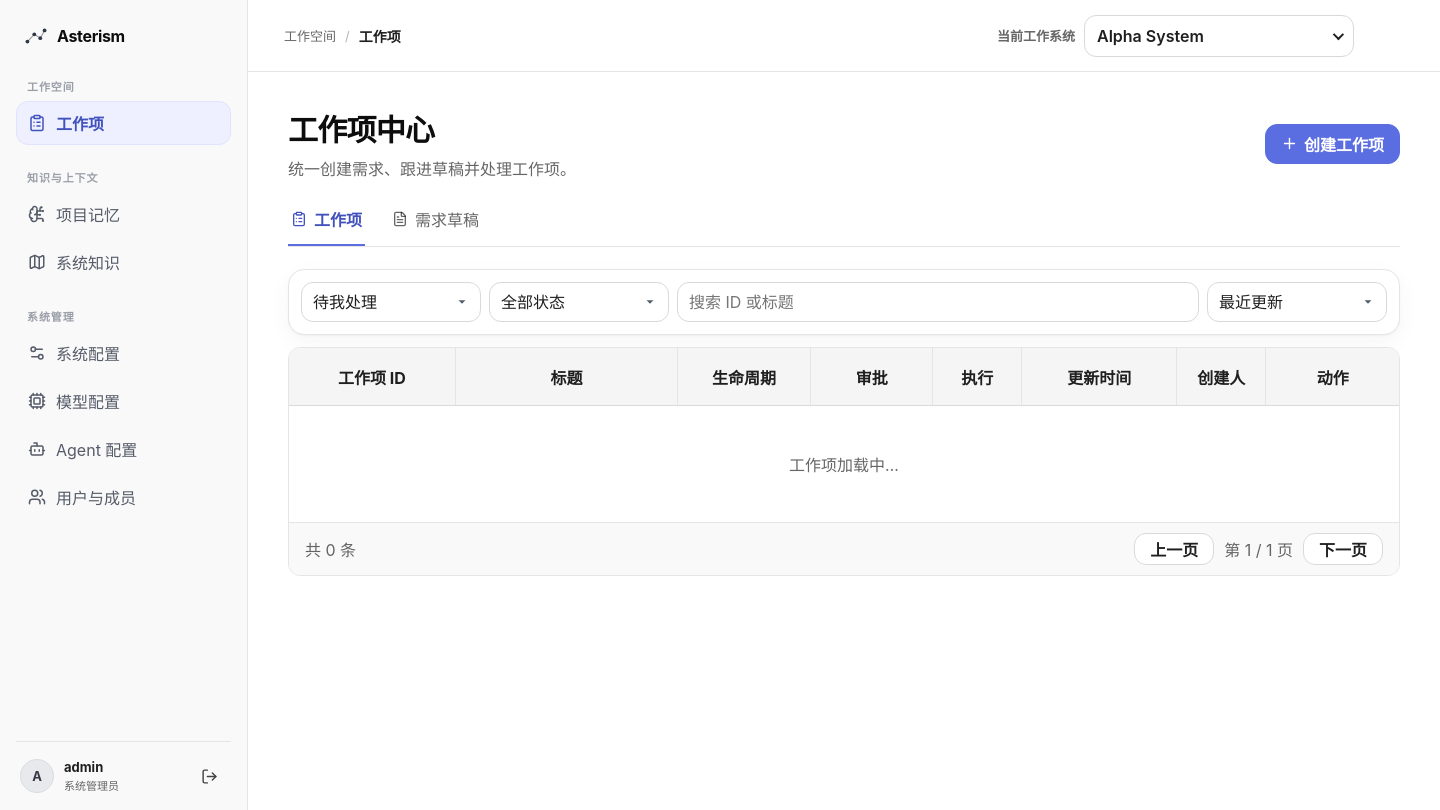
work item filters and second page survive detail return
Select "全部可见" in the dropdown named "范围" at (391, 302), box [301,282,481,322]
Select "已完成" in the dropdown named "状态" at (579, 302), box [489,282,669,322]
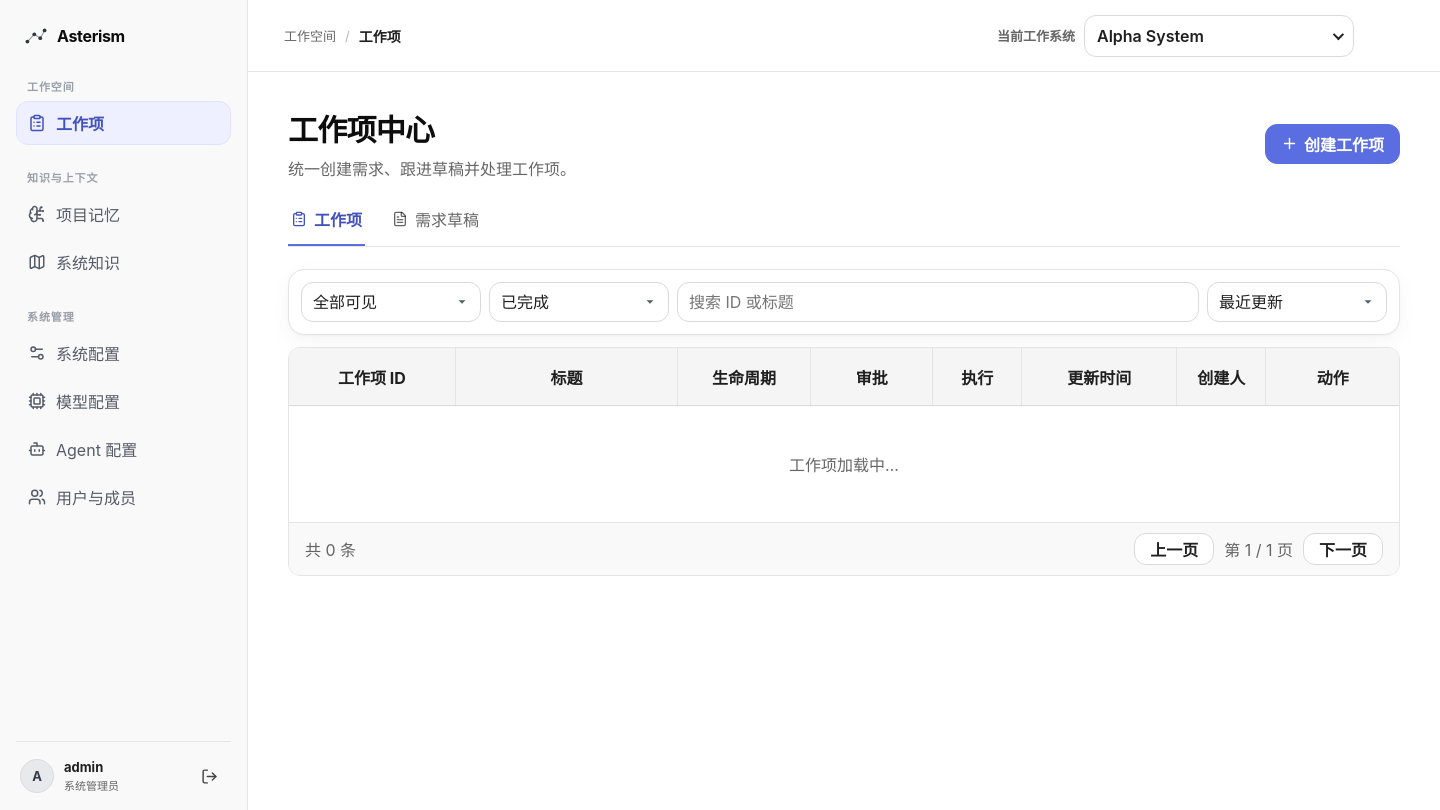
Type "登录" into the field named "搜索工作项" at (938, 302), box [677,282,1199,322]
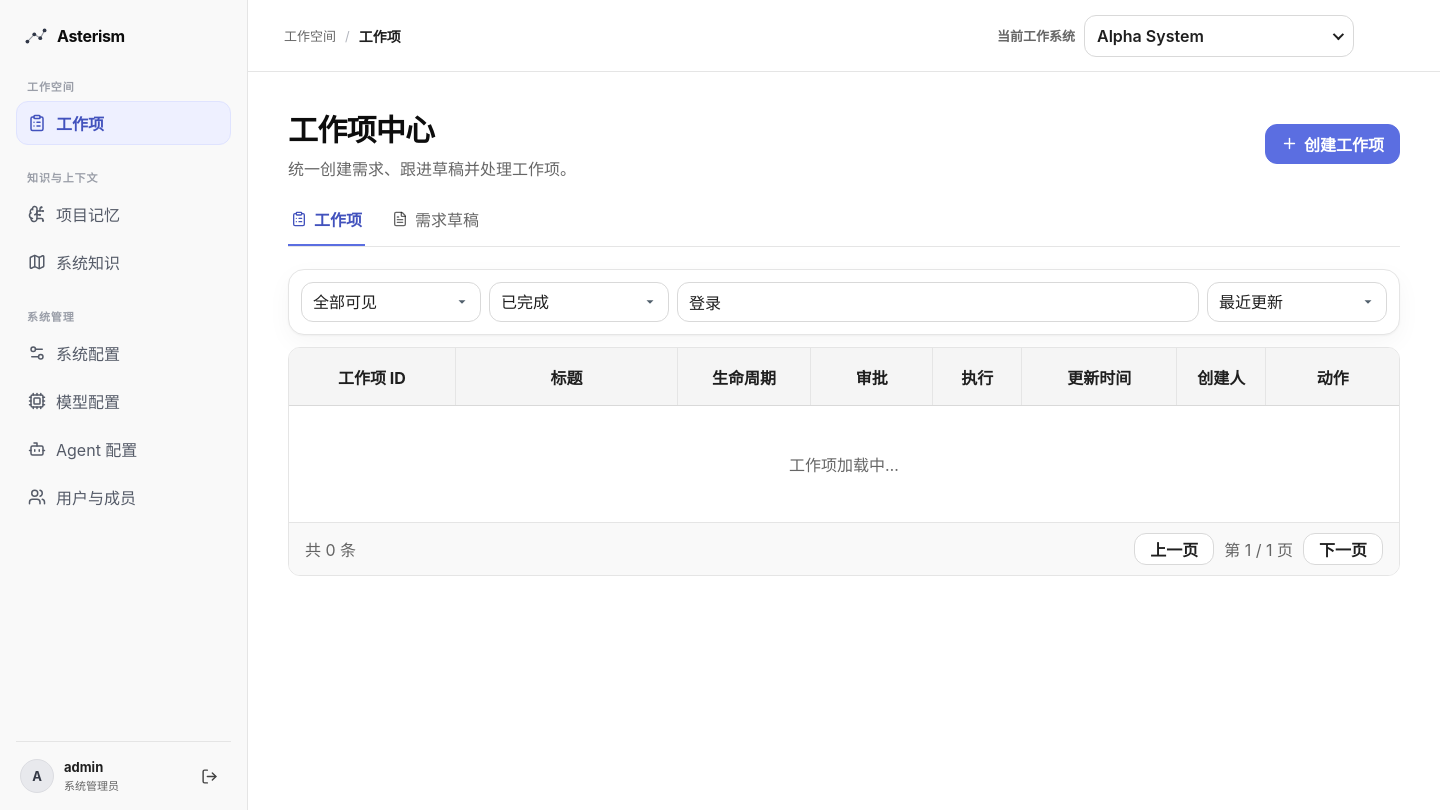
Select "最早创建" in the dropdown named "排序" at (1297, 302), box [1207,282,1387,322]
(page scrolled)
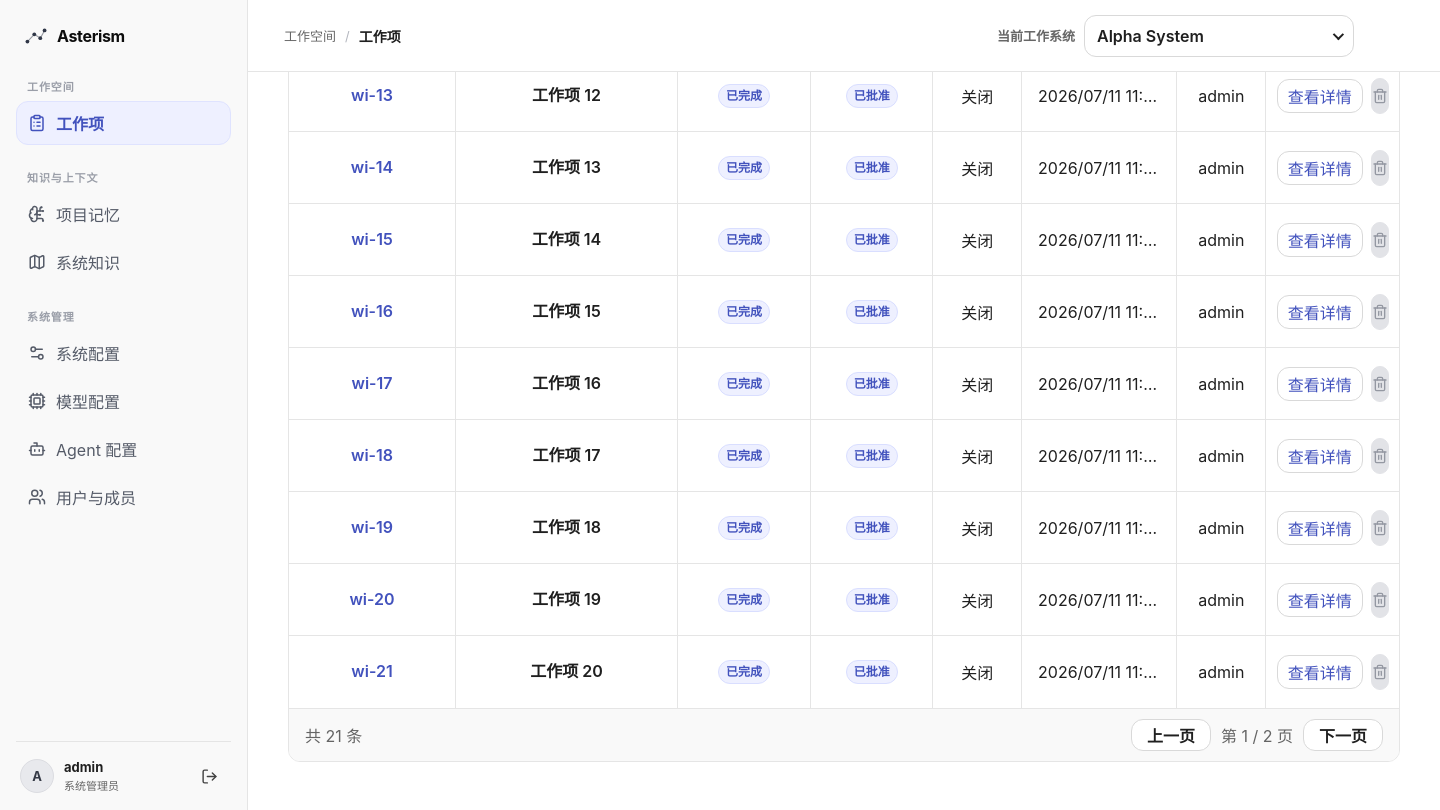
Click the button "下一页" at (1343, 735), box [1303,719,1383,751]
(page scrolled)
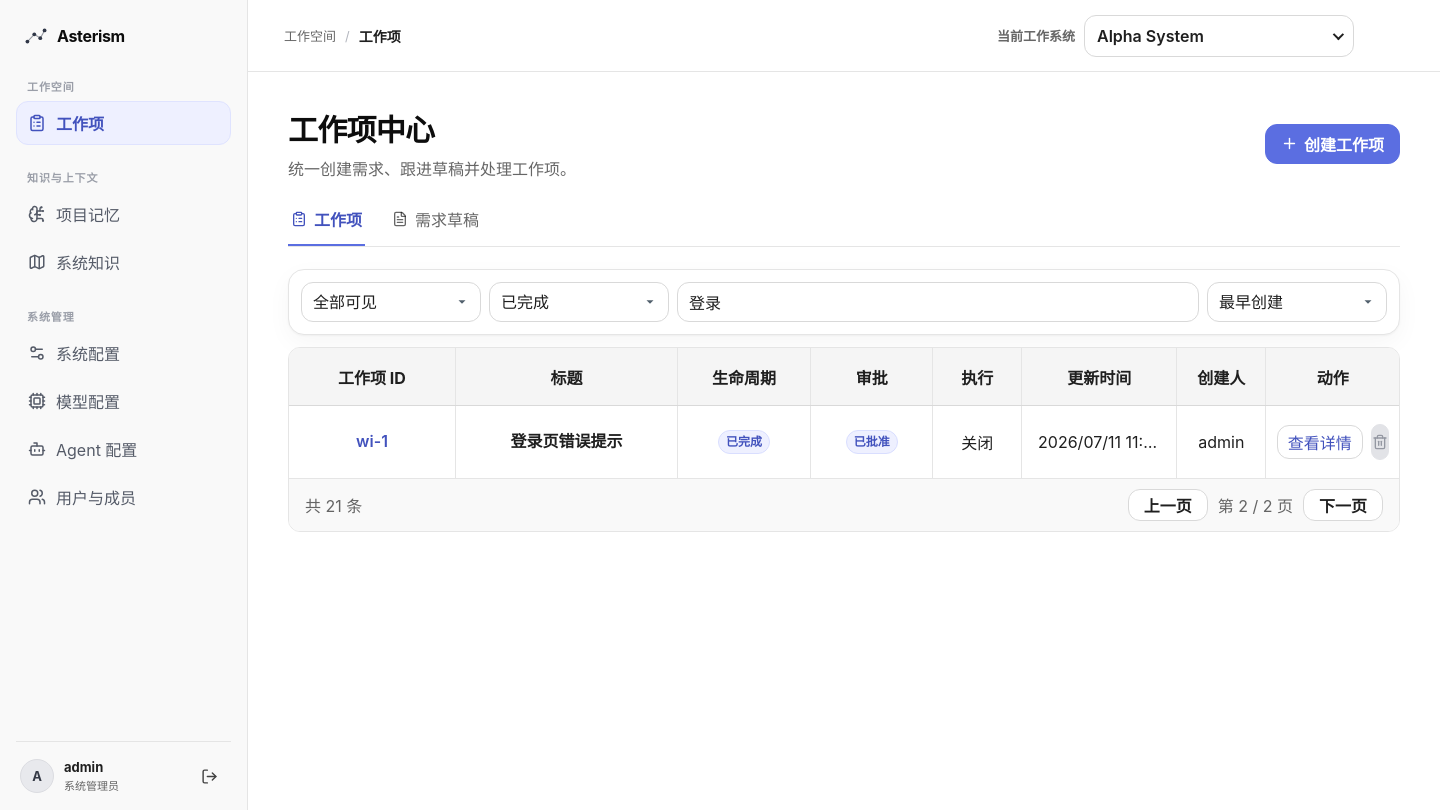
Expected: the text "第 2 / 2 页" is shown, [1218,493,1293,517]
Click the link "wi-1" at (372, 442), box [356,432,388,452]
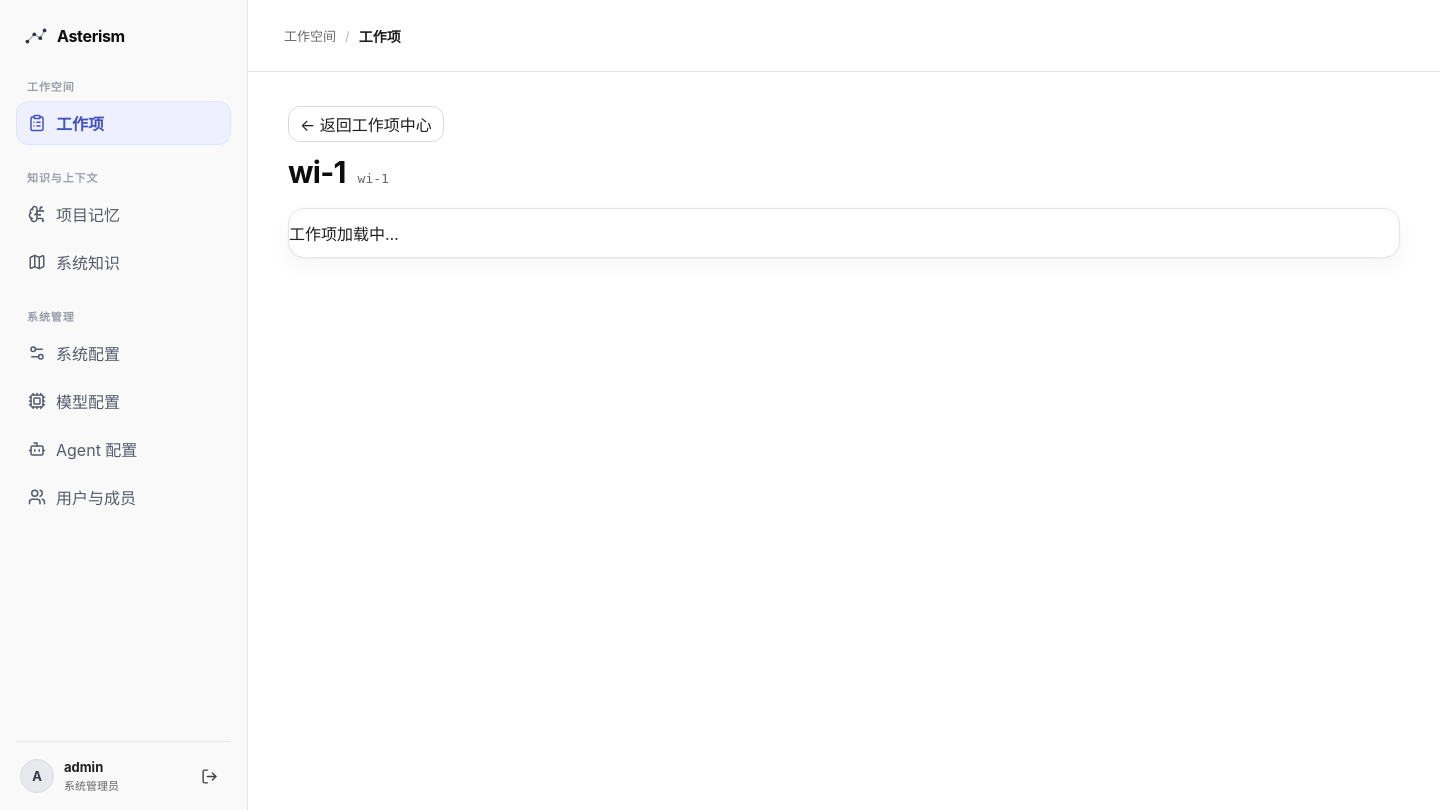
Click the link "← 返回工作项中心" at (366, 124), box [288,106,444,142]
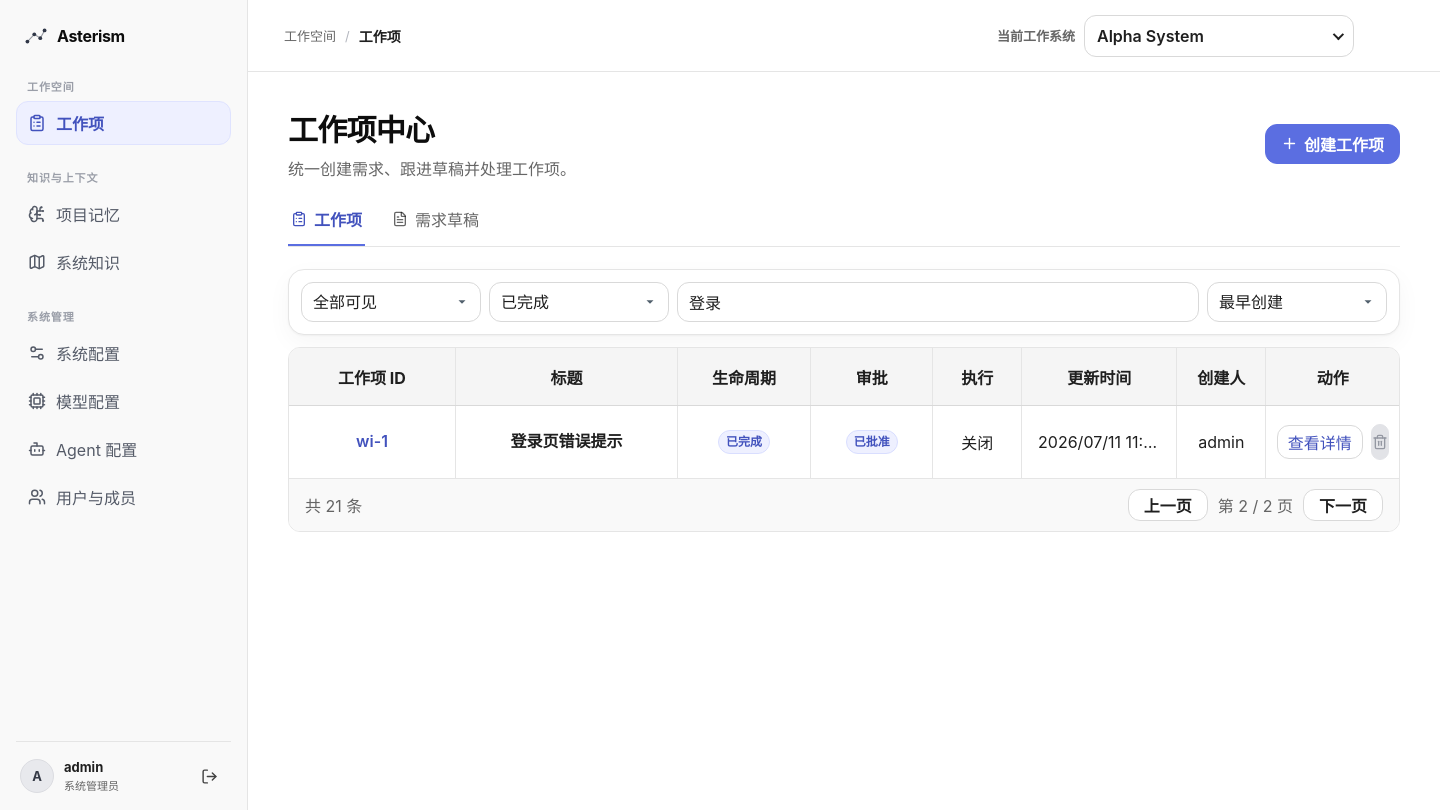
Expected: the dropdown named "范围" shows "全部可见", [301,282,481,322]
Expected: the dropdown named "状态" shows "已完成", [489,282,669,322]
Expected: the field named "搜索工作项" holds "登录", [677,282,1199,322]
